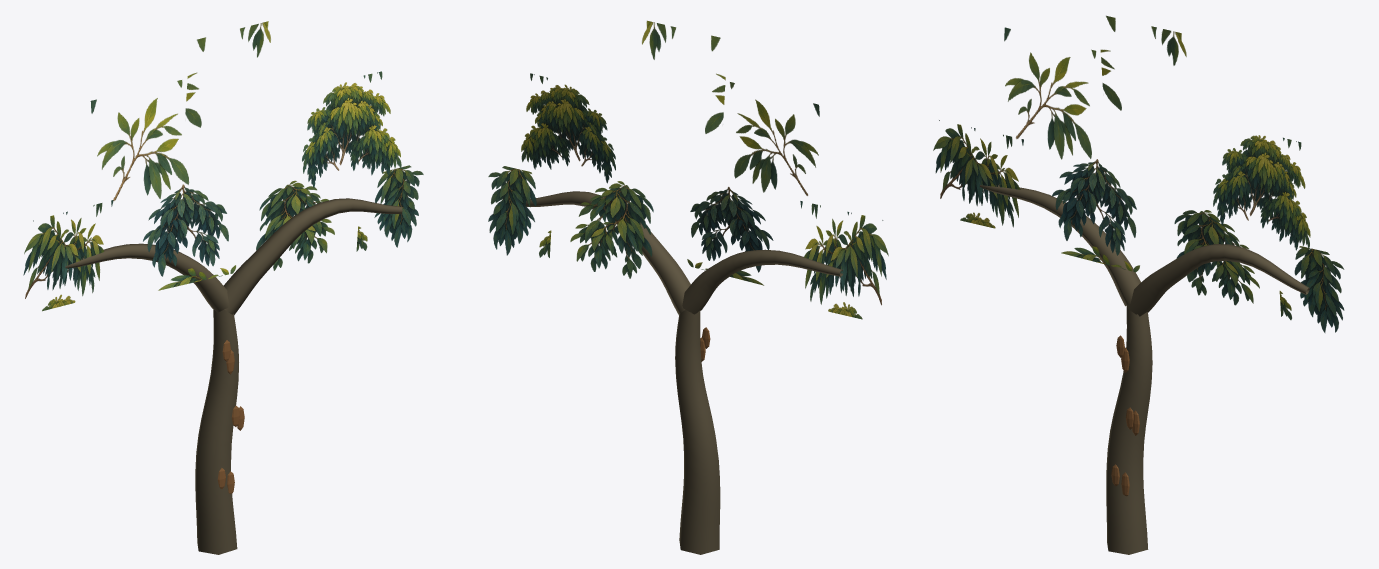
File: TREE_EUCALYPTUS_001_LOD_MAP.glb
3 views of the same model, side by side, from view 1: azimuth 30°, elevation 25°; view 2: azimuth 150°, elevation 25°; view 3: azimuth 330°, elevation 25° (orthographic). The views are drawn at different scales.
Parts seen in each view (by area): view 1: GG_EUC_V4_MAIN_TRUNK, GG_EUC_BODY_ISLAND_03_CLUSTER_00, GG_EUC_BODY_ISLAND_05_CLUSTER_00, GG_EUC_BODY_ISLAND_00_CLUSTER_00, GG_EUC_V4_RIGHT_PRIMARY, GG_EUC_BODY_ISLAND_01_CLUSTER_00, GG_EUC_BODY_ISLAND_06_CLUSTER_00, GG_EUC_BODY_ISLAND_04_CLUSTER_00, GG_EUC_V4_LEFT_PRIMARY, GG_EUC_BODY_ISLAND_02_CLUSTER_00; view 2: GG_EUC_V4_MAIN_TRUNK, GG_EUC_BODY_ISLAND_03_CLUSTER_00, GG_EUC_BODY_ISLAND_06_CLUSTER_00, GG_EUC_BODY_ISLAND_00_CLUSTER_00, GG_EUC_BODY_ISLAND_05_CLUSTER_00, GG_EUC_BODY_ISLAND_04_CLUSTER_00, GG_EUC_V4_LEFT_PRIMARY, GG_EUC_BODY_ISLAND_01_CLUSTER_00, GG_EUC_V4_RIGHT_PRIMARY, GG_EUC_BODY_ISLAND_02_CLUSTER_00; view 3: GG_EUC_V4_MAIN_TRUNK, GG_EUC_BODY_ISLAND_03_CLUSTER_00, GG_EUC_BODY_ISLAND_05_CLUSTER_00, GG_EUC_BODY_ISLAND_00_CLUSTER_00, GG_EUC_V4_RIGHT_PRIMARY, GG_EUC_BODY_ISLAND_06_CLUSTER_00, GG_EUC_BODY_ISLAND_01_CLUSTER_00, GG_EUC_BODY_ISLAND_04_CLUSTER_00, GG_EUC_V4_LEFT_PRIMARY, GG_EUC_BODY_ISLAND_02_CLUSTER_00.
Part boxes in pixels (x1=…): GG_EUC_V4_MAIN_TRUNK: x1=195, y1=309, x2=238, y2=554; GG_EUC_BODY_ISLAND_03_CLUSTER_00: x1=302, y1=71, x2=401, y2=187; GG_EUC_BODY_ISLAND_05_CLUSTER_00: x1=143, y1=184, x2=235, y2=290; GG_EUC_BODY_ISLAND_00_CLUSTER_00: x1=23, y1=200, x2=113, y2=311; GG_EUC_V4_RIGHT_PRIMARY: x1=223, y1=198, x2=402, y2=315; GG_EUC_BODY_ISLAND_01_CLUSTER_00: x1=90, y1=80, x2=189, y2=200; GG_EUC_BODY_ISLAND_06_CLUSTER_00: x1=256, y1=180, x2=334, y2=270; GG_EUC_BODY_ISLAND_04_CLUSTER_00: x1=356, y1=165, x2=423, y2=251; GG_EUC_V4_LEFT_PRIMARY: x1=65, y1=243, x2=228, y2=312; GG_EUC_BODY_ISLAND_02_CLUSTER_00: x1=185, y1=21, x2=270, y2=127; GG_EUC_V4_MAIN_TRUNK: x1=675, y1=310, x2=720, y2=554; GG_EUC_BODY_ISLAND_03_CLUSTER_00: x1=521, y1=73, x2=615, y2=183; GG_EUC_BODY_ISLAND_06_CLUSTER_00: x1=570, y1=181, x2=653, y2=278; GG_EUC_BODY_ISLAND_00_CLUSTER_00: x1=800, y1=201, x2=888, y2=319; GG_EUC_BODY_ISLAND_05_CLUSTER_00: x1=687, y1=187, x2=773, y2=285; GG_EUC_BODY_ISLAND_04_CLUSTER_00: x1=488, y1=166, x2=551, y2=257; GG_EUC_V4_LEFT_PRIMARY: x1=682, y1=249, x2=842, y2=314; GG_EUC_BODY_ISLAND_01_CLUSTER_00: x1=730, y1=82, x2=819, y2=195; GG_EUC_V4_RIGHT_PRIMARY: x1=525, y1=191, x2=690, y2=314; GG_EUC_BODY_ISLAND_02_CLUSTER_00: x1=642, y1=20, x2=725, y2=133; GG_EUC_V4_MAIN_TRUNK: x1=1106, y1=305, x2=1152, y2=554; GG_EUC_BODY_ISLAND_03_CLUSTER_00: x1=1213, y1=135, x2=1310, y2=250; GG_EUC_BODY_ISLAND_05_CLUSTER_00: x1=1052, y1=159, x2=1139, y2=272; GG_EUC_BODY_ISLAND_00_CLUSTER_00: x1=933, y1=120, x2=1023, y2=228; GG_EUC_V4_RIGHT_PRIMARY: x1=1127, y1=244, x2=1309, y2=316; GG_EUC_BODY_ISLAND_06_CLUSTER_00: x1=1174, y1=210, x2=1259, y2=305; GG_EUC_BODY_ISLAND_01_CLUSTER_00: x1=1004, y1=27, x2=1096, y2=159; GG_EUC_BODY_ISLAND_04_CLUSTER_00: x1=1279, y1=246, x2=1344, y2=332; GG_EUC_V4_LEFT_PRIMARY: x1=980, y1=185, x2=1141, y2=306; GG_EUC_BODY_ISLAND_02_CLUSTER_00: x1=1100, y1=15, x2=1186, y2=110.
Size of the model in its own units: 5.99 by 6.95 by 0.4937.
3 materials, 1 textured.
